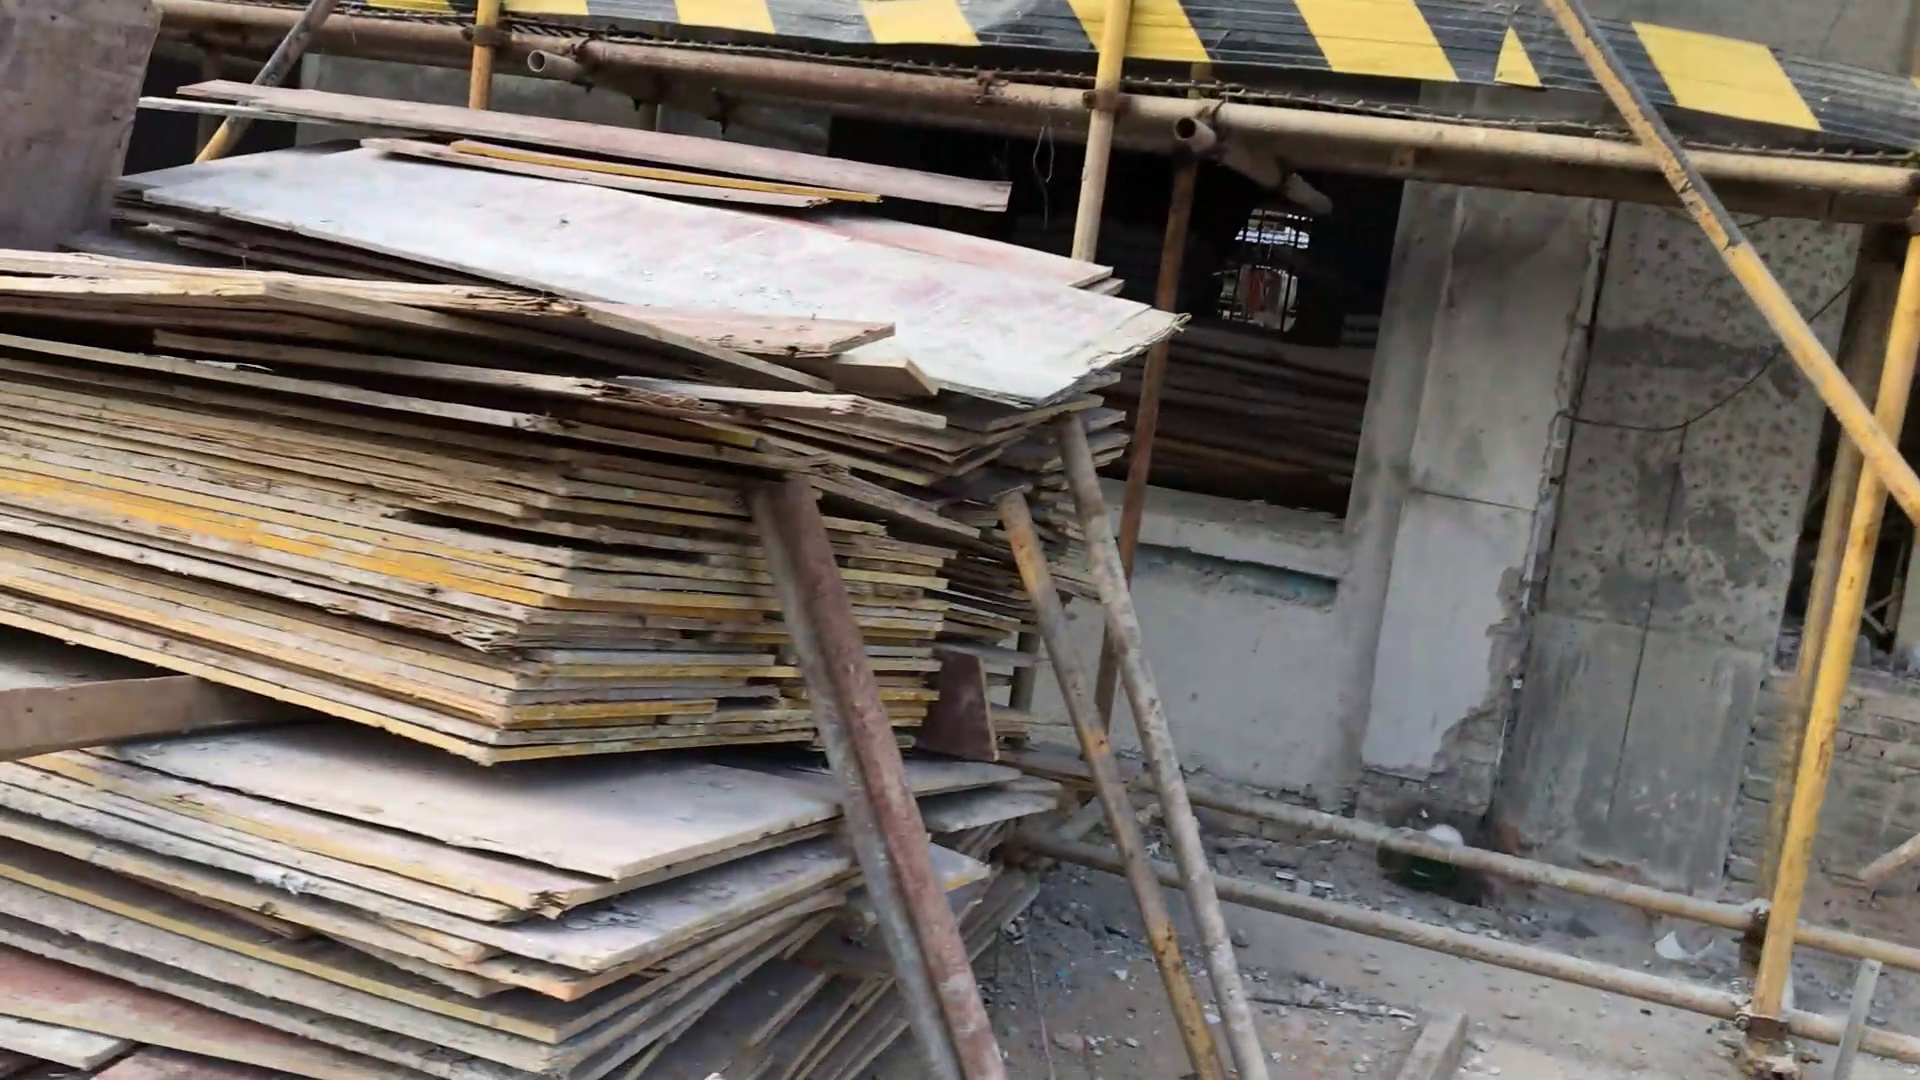board: (1, 67, 1188, 1071)
